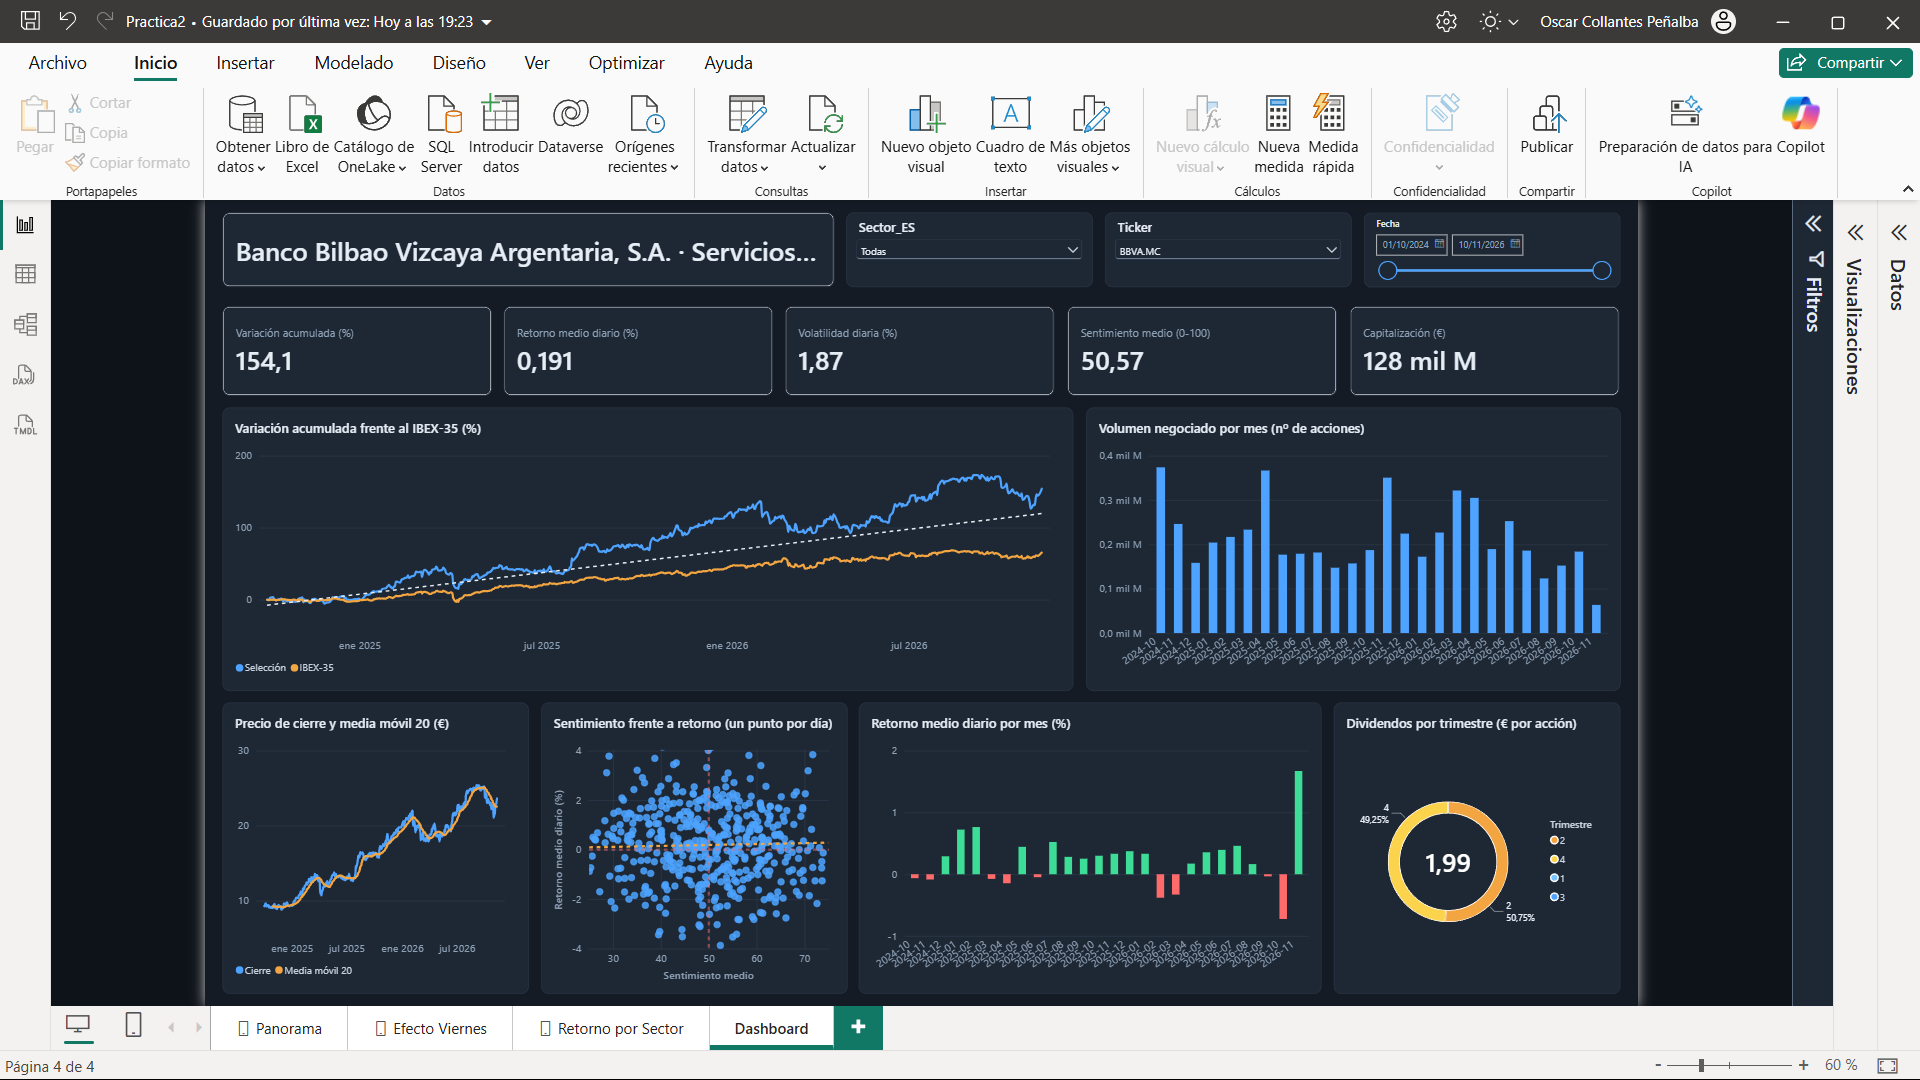

This screenshot's page, from the dashboard's own definition file:
{"tool":"powerbi","page":{"name":"Dashboard","canvas":[1920,1080],"ordinal":3},"visuals":[{"type":"slicer","fields":{"Values":["Empresa.Sector_ES"]},"box":[753.5,31.4,280.8,68],"z":0},{"type":"slicer","fields":{"Values":["Empresa.Ticker"]},"box":[1055.2,26.2,280.8,80.2],"z":1000},{"type":"slicer","fields":{"Values":["Fecha.Fecha"]},"box":[1360.5,19.2,280.8,95.9],"z":2000},{"type":"cardVisual","fields":{"Data":["Hechos.Variacion Acumulada"]},"box":[36.6,115.1,218,174.4],"z":3000},{"type":"cardVisual","fields":{"Data":["Hechos.Retorno Medio Diario"]},"box":[375,115.1,218,174.4],"z":4000},{"type":"cardVisual","fields":{"Data":["Hechos.Volatilidad Diaria"]},"box":[741.3,115.1,218,174.4],"z":5000},{"type":"cardVisual","fields":{"Data":["Hechos.Sentimiento Medio"]},"box":[1088.4,115.1,218,174.4],"z":6000},{"type":"cardVisual","fields":{"Data":["Hechos.Capitalizacion Total"]},"box":[1447.7,115.1,218,174.4],"z":7000},{"type":"lineChart","fields":{"Category":["Fecha.Fecha"],"Y":["Hechos.Var Acum Seleccion","Hechos.Var Acum IBEX"]},"box":[43.6,314,1058.7,376.7],"z":8000},{"type":"clusteredColumnChart","fields":{"Category":["Fecha.AnioMes"],"Y":["Sum(Hechos.Volume)"]},"box":[1133.7,314,736,376.7],"z":9000},{"type":"lineChart","fields":{"Category":["Fecha.Fecha"],"Y":["Avg(Hechos.Close)","Avg(Hechos.Media_Movil_20)"]},"box":[66.3,711.6,395.9,322.7],"z":10000},{"type":"scatterChart","fields":{"Category":["Fecha.Fecha"],"X":["Hechos.Sentimiento Medio"],"Y":["Hechos.Retorno Medio Diario"]},"box":[462.2,711.6,444.8,322.7],"z":11000},{"type":"clusteredColumnChart","fields":{"Category":["Fecha.AnioMes"],"Y":["Hechos.Retorno Medio Diario"]},"box":[907,711.6,610.5,322.7],"z":12000},{"type":"donutChart","fields":{"Category":["Fecha.Trimestre"],"Y":["Sum(Hechos.Dividends)"]},"box":[1517.4,711.6,385.5,322.7],"z":13000},{"type":"cardVisual","fields":{"Data":["Hechos.Titulo Dashboard"]},"box":[66.3,19.2,556.4,75],"z":13001}]}

Visuals, with their boxes on the page's 1920x1080 design canvas (x1, y1, x2, y2). These are canvas units, not pixel positions in the 1920x1080 screenshot, which may show the page scaled, cropped or inside an application window:
slicer - Empresa.Sector_ES: rect(754, 31, 1034, 99)
slicer - Empresa.Ticker: rect(1055, 26, 1336, 106)
slicer - Fecha.Fecha: rect(1360, 19, 1641, 115)
cardVisual - Hechos.Variacion Acumulada: rect(37, 115, 255, 290)
cardVisual - Hechos.Retorno Medio Diario: rect(375, 115, 593, 290)
cardVisual - Hechos.Volatilidad Diaria: rect(741, 115, 959, 290)
cardVisual - Hechos.Sentimiento Medio: rect(1088, 115, 1306, 290)
cardVisual - Hechos.Capitalizacion Total: rect(1448, 115, 1666, 290)
lineChart - Fecha.Fecha x Hechos.Var Acum Seleccion: rect(44, 314, 1102, 691)
clusteredColumnChart - Fecha.AnioMes x Sum(Hechos.Volume): rect(1134, 314, 1870, 691)
lineChart - Fecha.Fecha x Avg(Hechos.Close): rect(66, 712, 462, 1034)
scatterChart - Fecha.Fecha x Hechos.Sentimiento Medio: rect(462, 712, 907, 1034)
clusteredColumnChart - Fecha.AnioMes x Hechos.Retorno Medio Diario: rect(907, 712, 1518, 1034)
donutChart - Fecha.Trimestre x Sum(Hechos.Dividends): rect(1517, 712, 1903, 1034)
cardVisual - Hechos.Titulo Dashboard: rect(66, 19, 623, 94)
